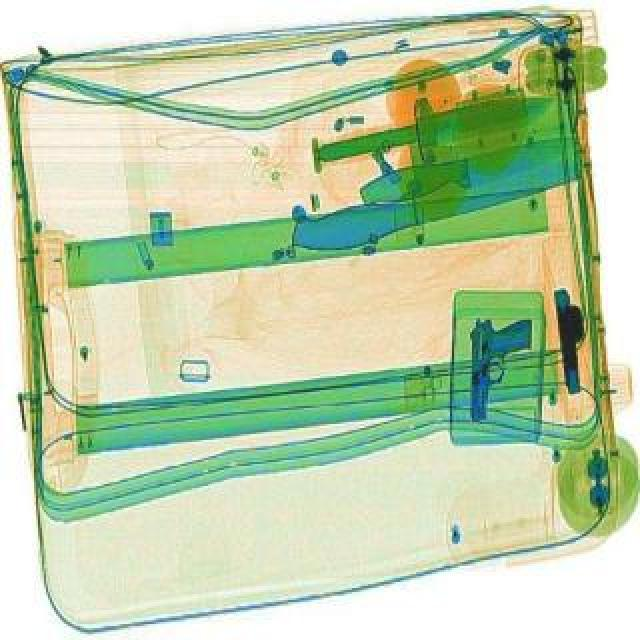gun: (464, 318, 532, 426), (550, 290, 594, 398)
knife: (264, 88, 596, 266), (354, 128, 582, 218), (312, 90, 556, 174)
